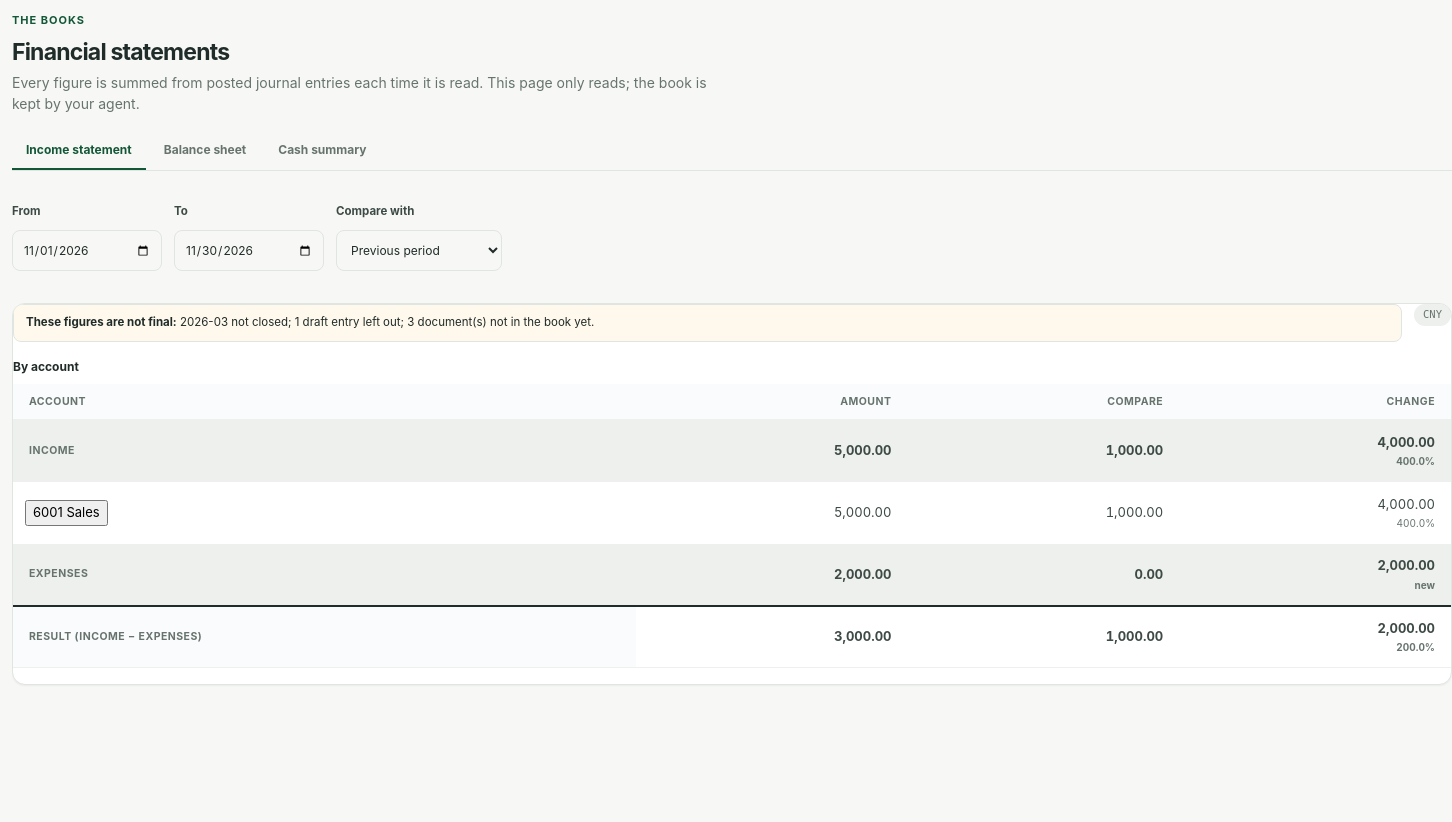
StatementsPage › asks for cash accounts when none is marked
The width and height of the screenshot is (1452, 822).
Click the tab "Cash summary": (322,151) [264,132,381,170]
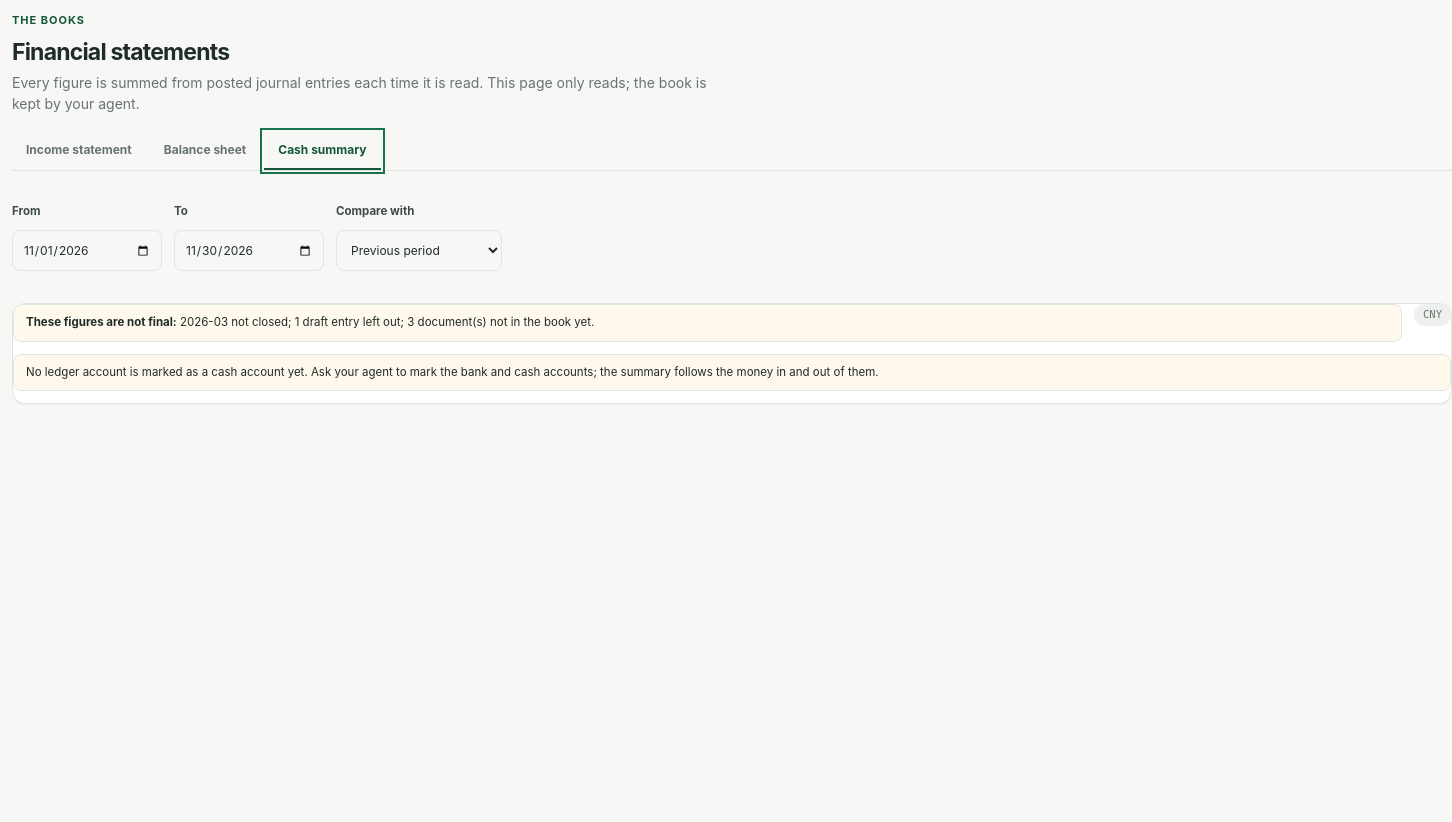
Result: the text "No ledger account is marked as a cash account yet" is shown at [26,364,879,378]
